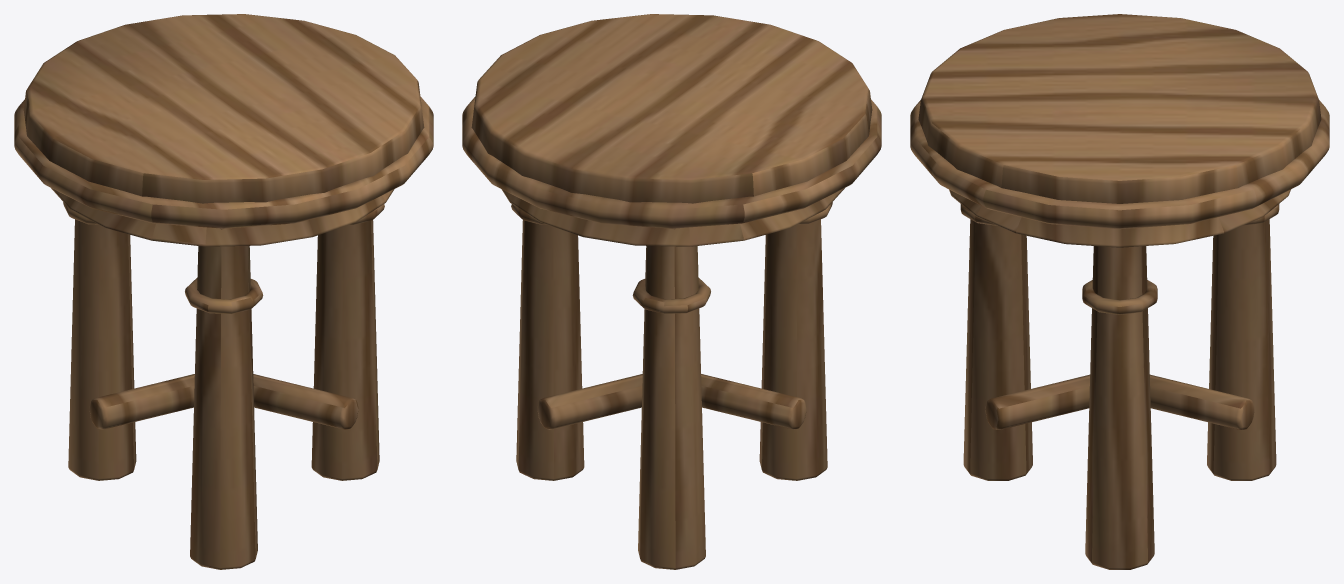
File: p_stool.glb
3 renders of one model, left to right at view 1: azimuth 30°, elevation 25°; view 2: azimuth 150°, elevation 25°; view 3: azimuth 270°, elevation 25°, orthographic.
Parts seen in each view (by area): view 1: stool; view 2: stool; view 3: stool.
Boxes of the visible parts, x1=… form: stool: x1=14, y1=14, x2=433, y2=569; stool: x1=462, y1=14, x2=881, y2=569; stool: x1=910, y1=14, x2=1329, y2=569.
Size of the model in its own units: 0.4395 by 0.4575 by 0.4328.
Materials: 1 (1 with a texture image).
